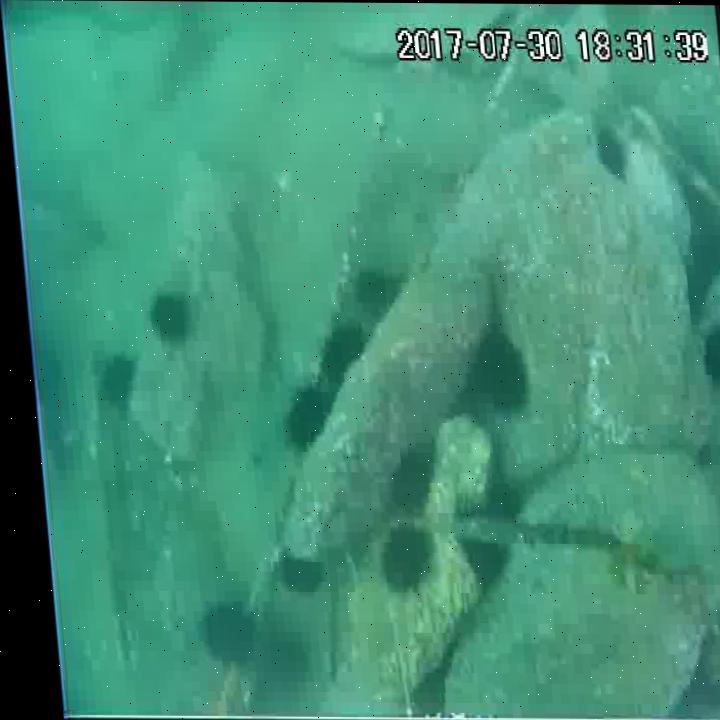echinus: (464, 323, 530, 413), (368, 524, 427, 600), (184, 596, 248, 666), (310, 321, 367, 391), (378, 443, 434, 513), (445, 526, 501, 591), (273, 389, 330, 450), (267, 545, 318, 599), (344, 260, 394, 315), (84, 350, 133, 406), (681, 214, 720, 278), (142, 287, 185, 343), (591, 128, 631, 184), (474, 475, 519, 518), (694, 327, 720, 379)
